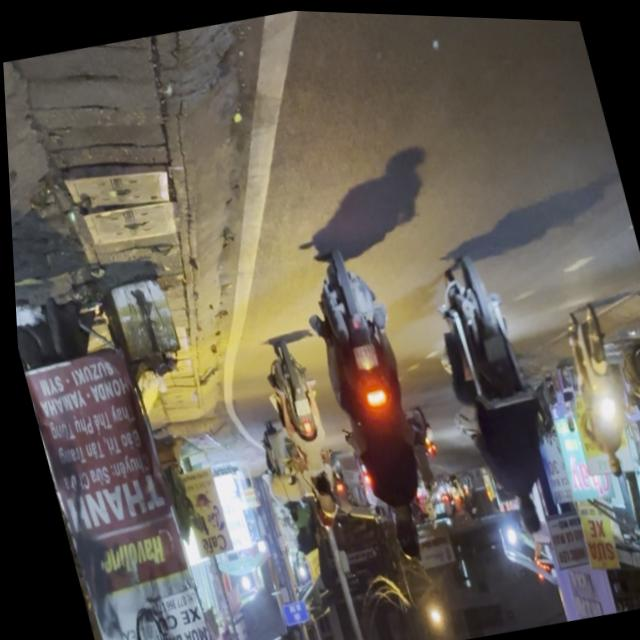helmet: (382, 501, 420, 557), (309, 484, 334, 518)
licenseplate: (288, 238, 448, 565), (414, 237, 570, 545), (253, 334, 346, 527), (551, 294, 640, 480)
motorcyclist: (509, 488, 541, 535), (305, 468, 327, 499), (599, 444, 619, 473)
nohelmet: (347, 340, 375, 368), (289, 395, 307, 415)
